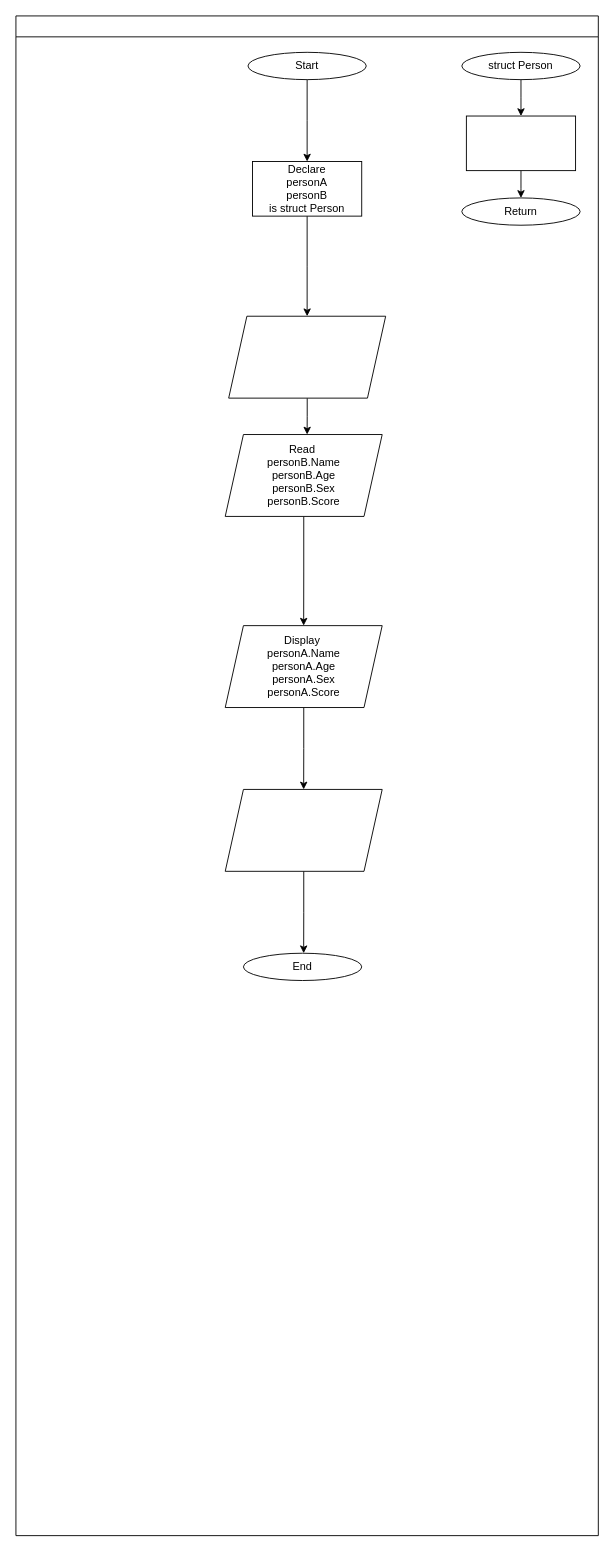
The diagram is 614 pixels wide and 1552 high, and some of its shapes have lost their labels. Here are the shapes that lost their labels. From the top down, the centre of each, then its label:
At point (520, 143): "Name Age Sex Score".
At point (307, 356): "Read personA.Name personA.Age personA.Sex personA.Score".
At point (303, 830): "Display personB.Name personB.Age personB.Sex personB.Score".
